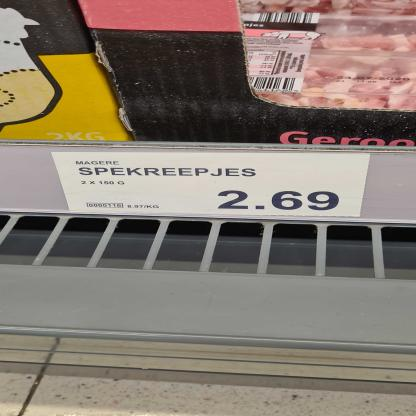prtg: (53, 153, 372, 218)
